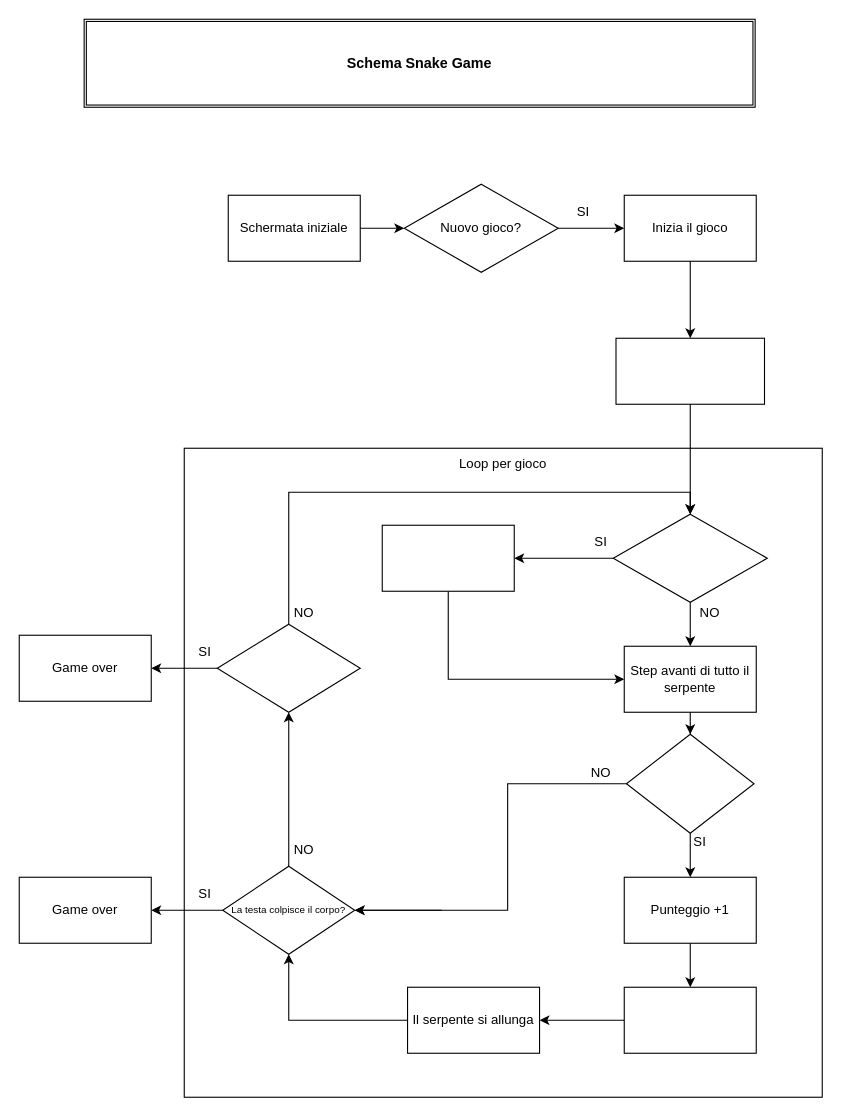
Some shapes in this 842 by 1117 pixel diagram are drawn without their labels. The shapes that lost their labels are listed below. From the top down, each one's centre as x and y in pixels, then its label:
At (690,370): "Pos. iniziale serpente Pos. iniziale cibo".
At (447,557): "Cambio direzione testa".
At (689,557): "Cambio direzione?".
At (288,667): "La testa copisce il muro?".
At (689,783): "Mangiato il cibo?".
At (689,1019): "Nuova posizione cibo".
